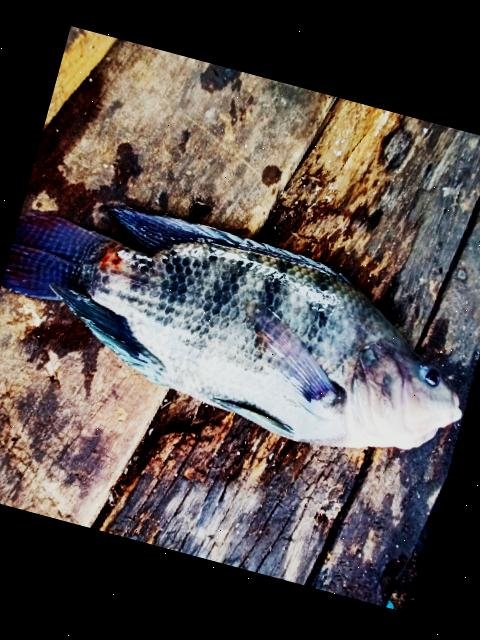Edwardsiella Ictaluri -Bacterial Red Disease-: (1, 207, 460, 449)
